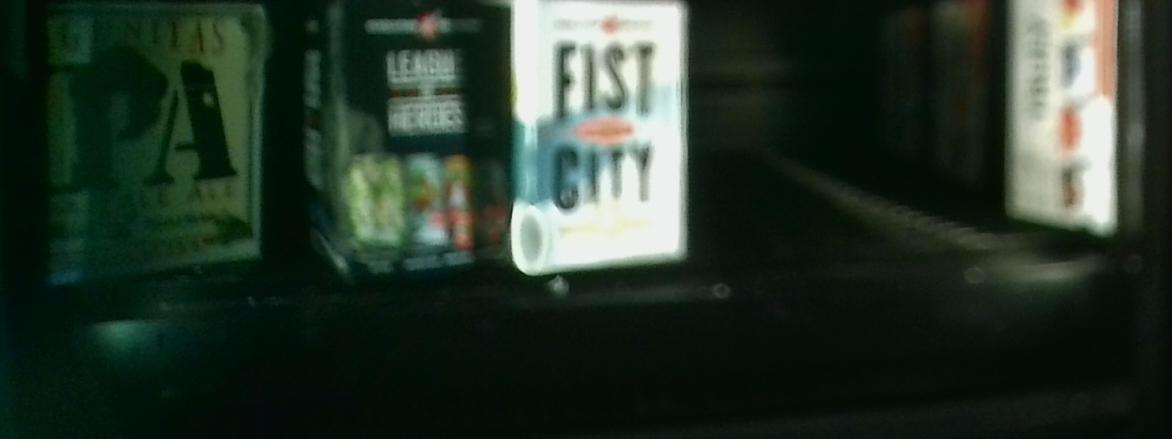bottle: (35, 1, 266, 265), (297, 4, 510, 266), (516, 6, 691, 270)
